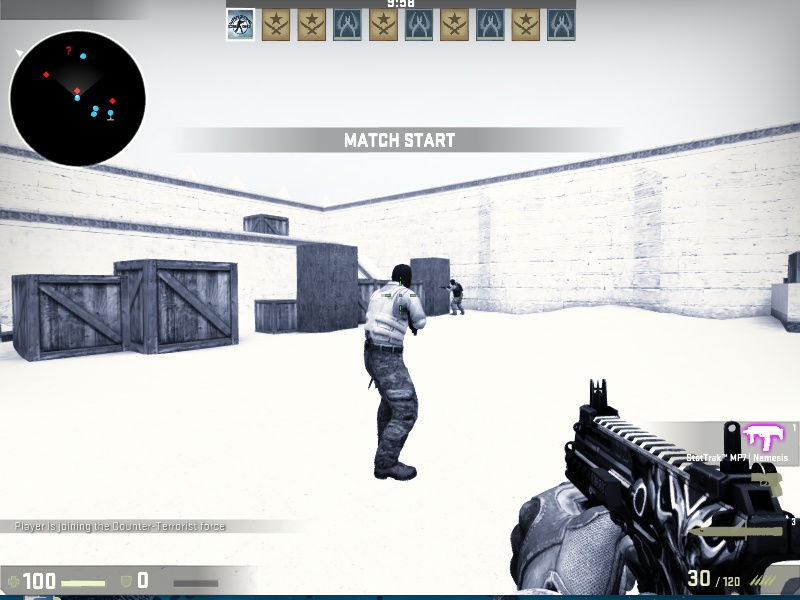c 0.52: (448, 274, 465, 316)
ch 0.36: (389, 261, 414, 297)
ch 0.65: (451, 277, 459, 286)
t 0.70: (363, 269, 426, 475)
th 0.69: (382, 261, 415, 294)
